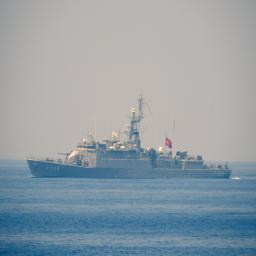Fragata: (26, 91, 237, 182)
